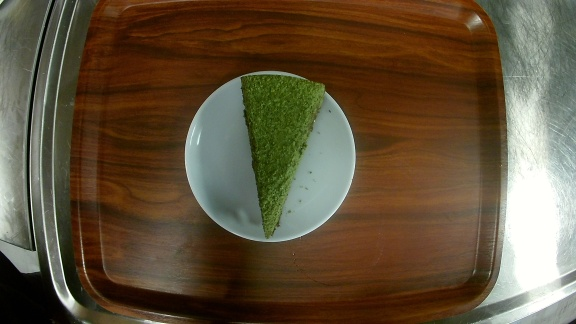fistiklipasta: (184, 70, 357, 243)
